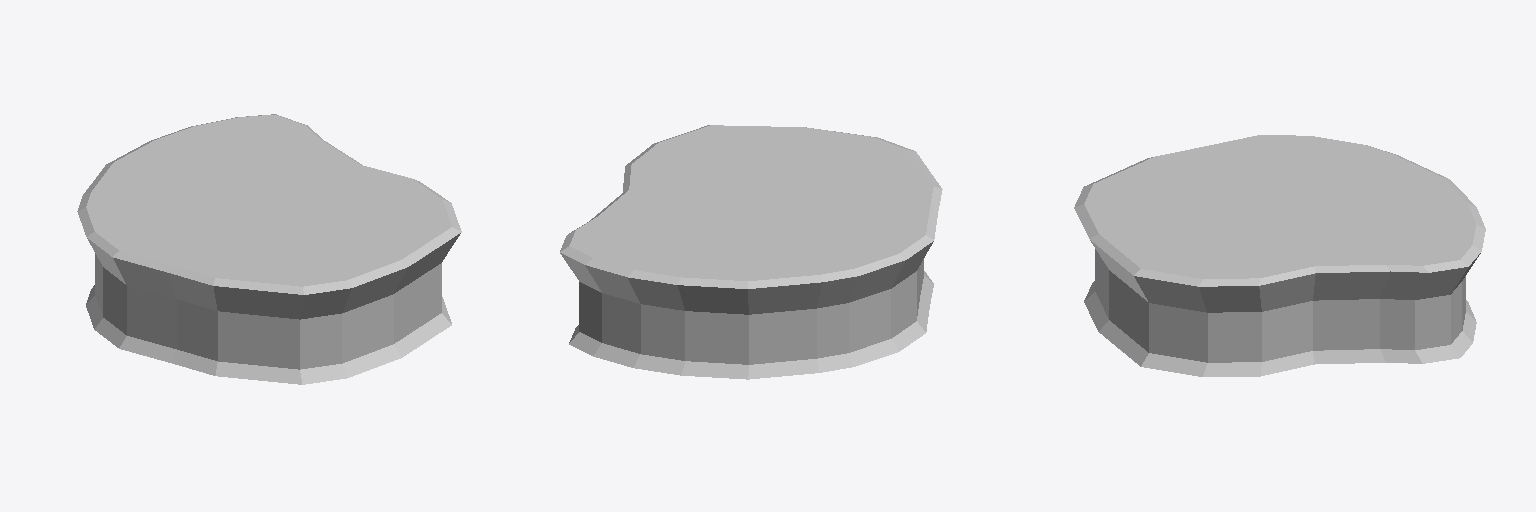
The model's file is platform_01.obj.
3 views of the same model, side by side, from view 1: azimuth 30°, elevation 25°; view 2: azimuth 150°, elevation 25°; view 3: azimuth 270°, elevation 25° (orthographic).
Parts seen in each view (by area): view 1: platform_01_Cube.004; view 2: platform_01_Cube.004; view 3: platform_01_Cube.004.
Part boxes in pixels (left/top/right/bottom): platform_01_Cube.004: left=77, top=114, right=461, bottom=384; platform_01_Cube.004: left=560, top=125, right=942, bottom=379; platform_01_Cube.004: left=1074, top=135, right=1485, bottom=376.
Bounding box in the file's own units: 10.16 × 3.07 × 11.7.